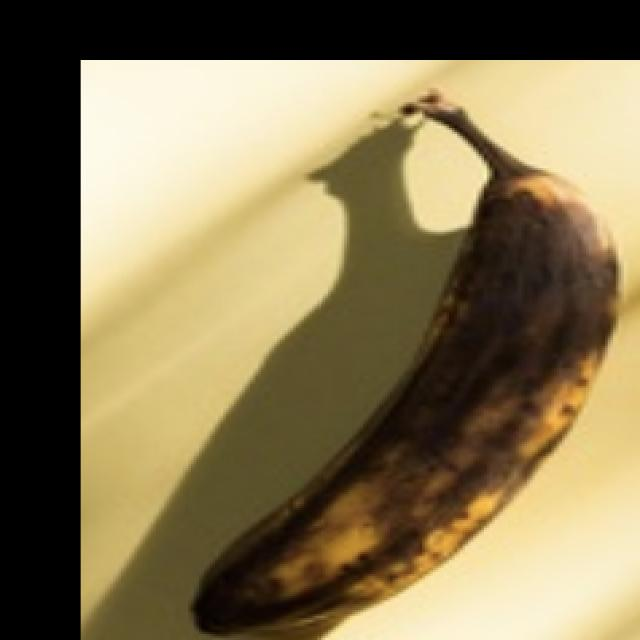Rotten: (173, 91, 630, 640)
